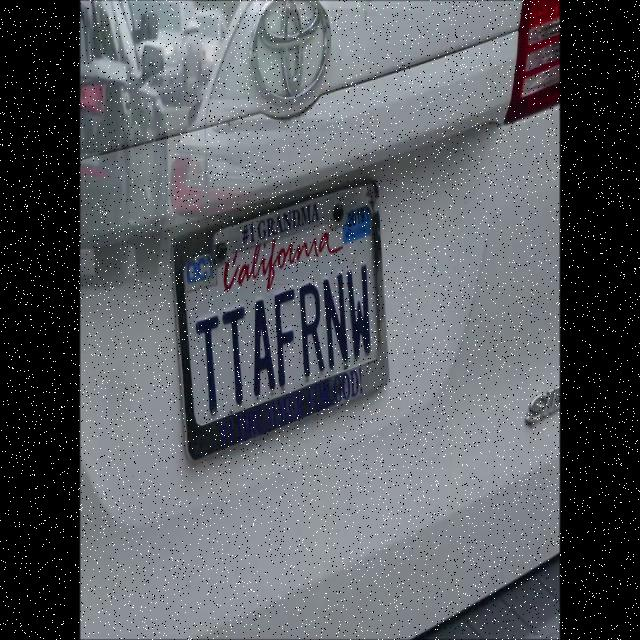licenseplate: (154, 168, 406, 473)
